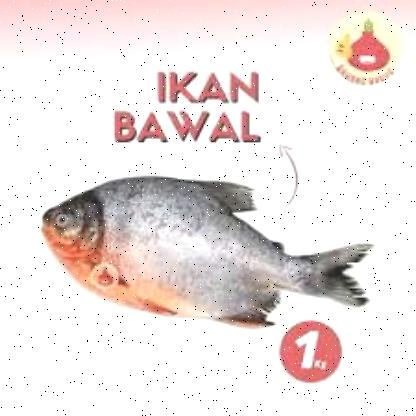ikan-pacu: (40, 172, 354, 326)
